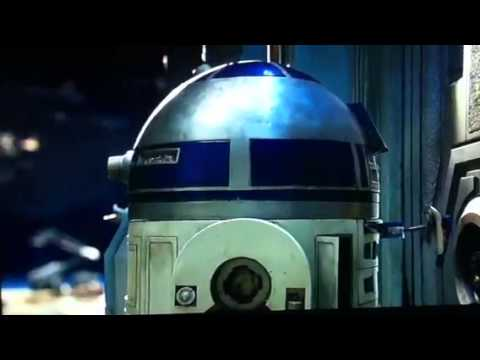r2d2: (102, 59, 379, 306)
